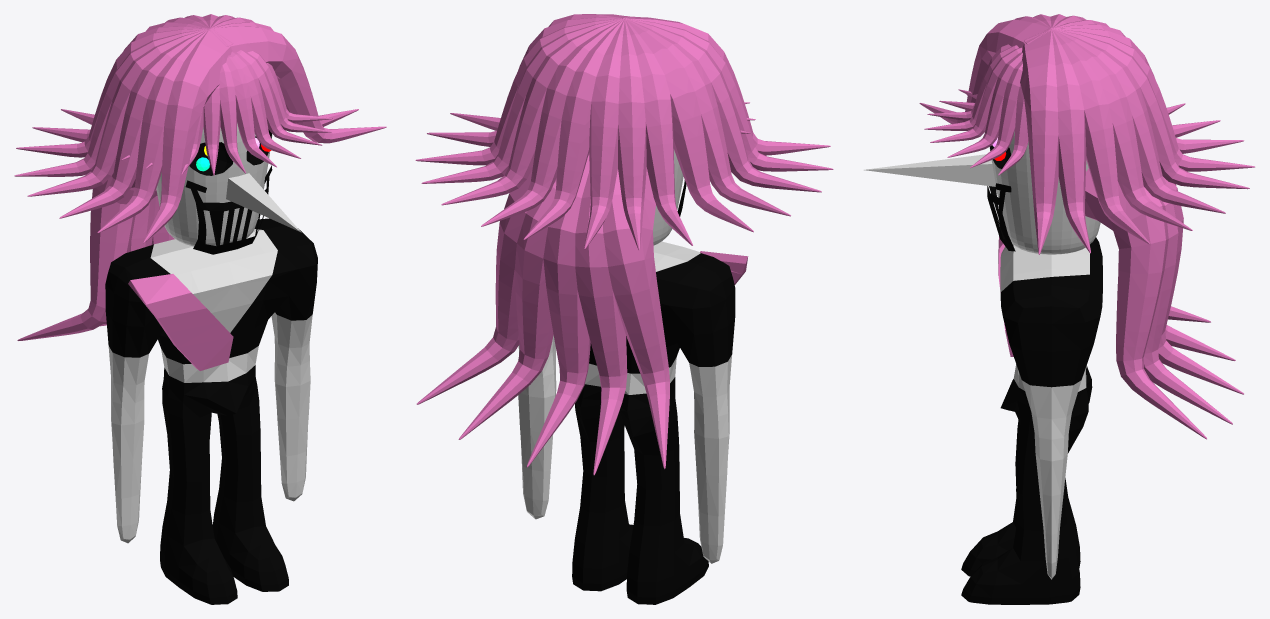
File: Spamton 1.fbx
3 views of the same model, side by side, from view 1: azimuth 30°, elevation 25°; view 2: azimuth 150°, elevation 25°; view 3: azimuth 270°, elevation 25° (orthographic). The views are drawn at different scales.
Visible parts, largest first — view 1: Spamton; view 2: Spamton; view 3: Spamton.
Part boxes in pixels (x1=…): Spamton: x1=14, y1=14, x2=386, y2=604; Spamton: x1=415, y1=14, x2=833, y2=604; Spamton: x1=864, y1=14, x2=1254, y2=604.
Size of the model in its own units: 190 by 288 by 184.
